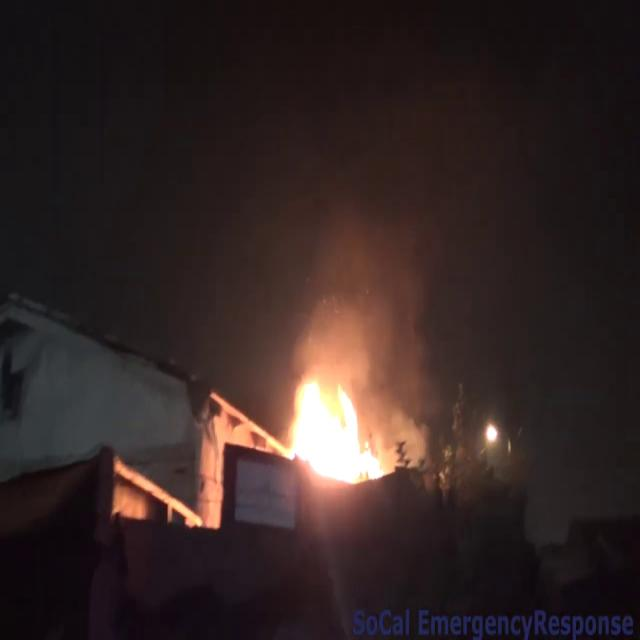Fire: (276, 364, 390, 490)
